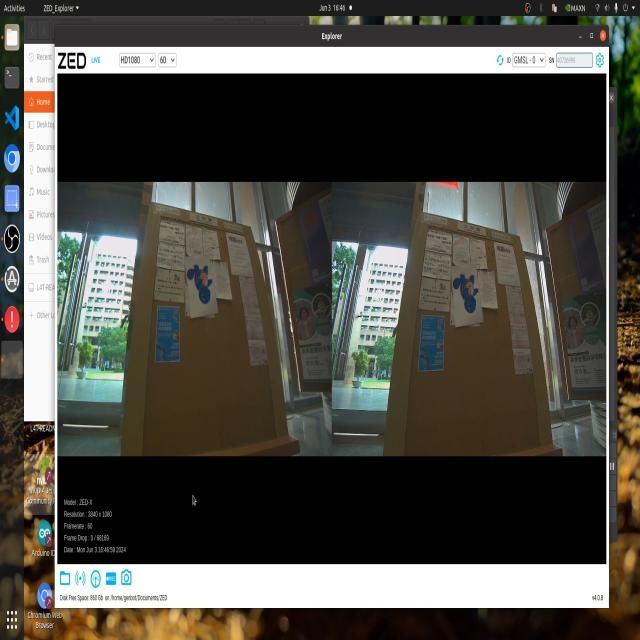blue: (181, 256, 213, 312), (449, 264, 474, 318)
